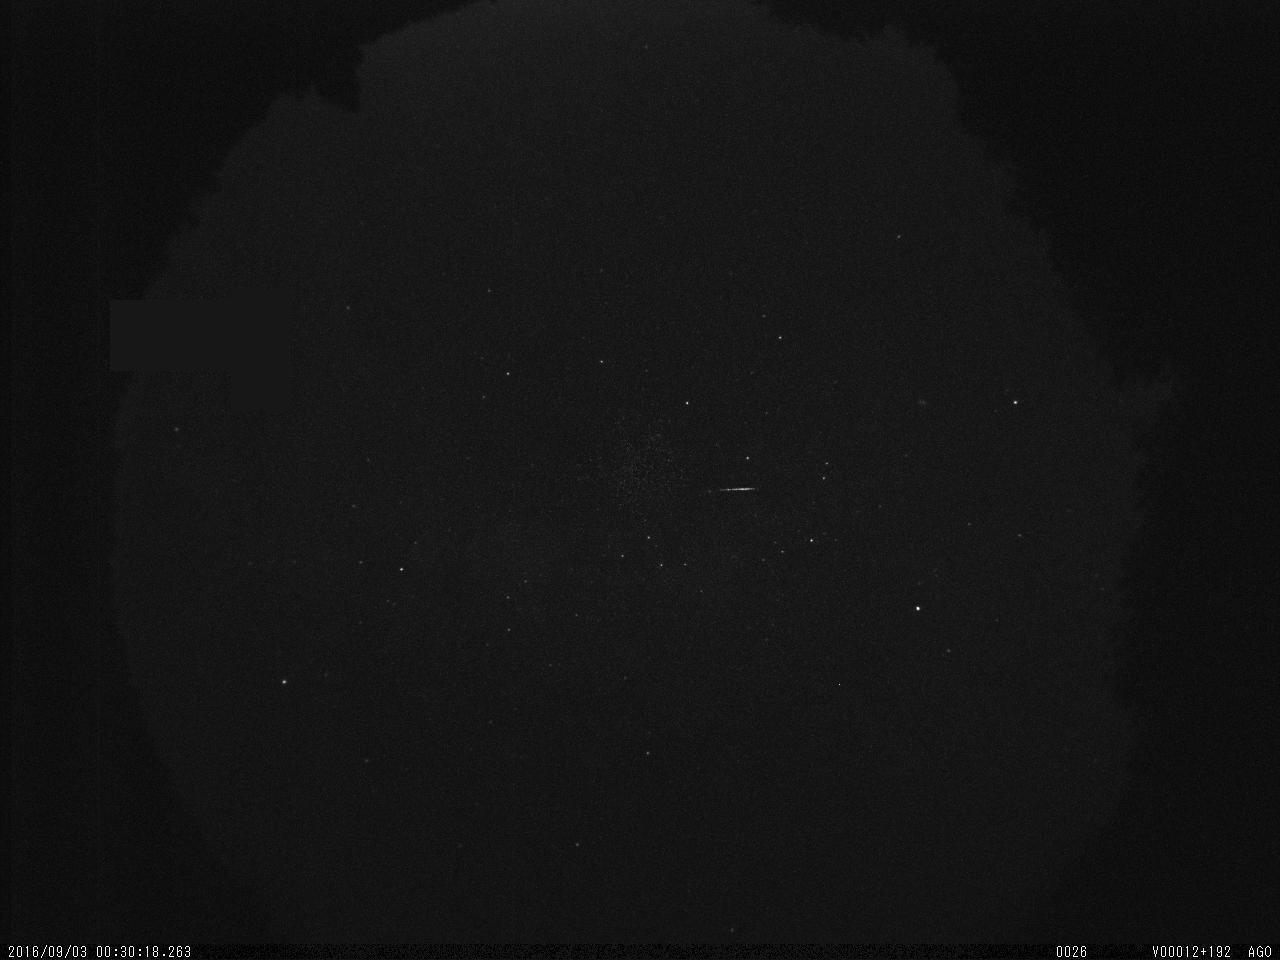Meteor: (700, 482, 761, 500)
